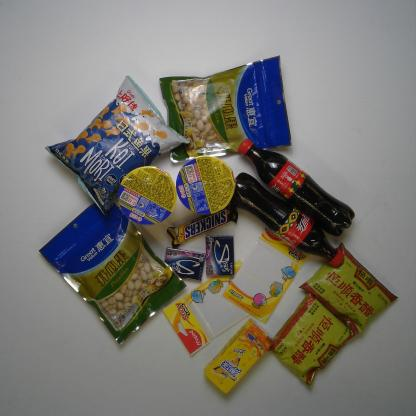Chocolate: (166, 200, 239, 249)
Dried Fruit: (36, 200, 188, 347), (157, 53, 292, 166)
Drink: (236, 137, 356, 237), (230, 171, 346, 269), (202, 316, 274, 395)
Gum: (164, 247, 207, 282), (204, 234, 236, 278)
Instant Noodles: (116, 165, 178, 227), (176, 155, 236, 215)
Puffed Food: (44, 74, 193, 221)
Seasoner: (297, 241, 400, 338), (266, 292, 356, 388)
Stationery: (220, 224, 310, 326), (161, 258, 251, 357)
